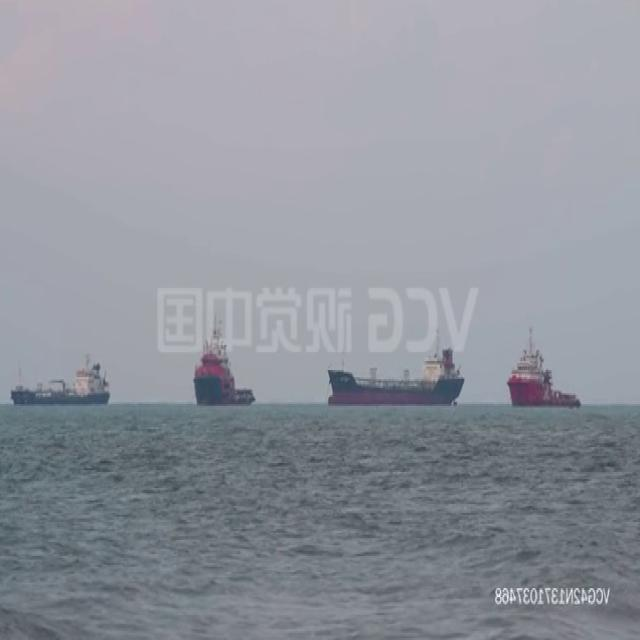cargoship: (324, 338, 467, 404), (11, 350, 111, 407), (508, 329, 582, 405), (193, 324, 256, 404)
